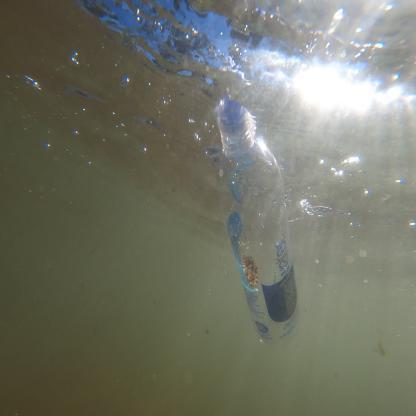Rác: (186, 85, 346, 364)
